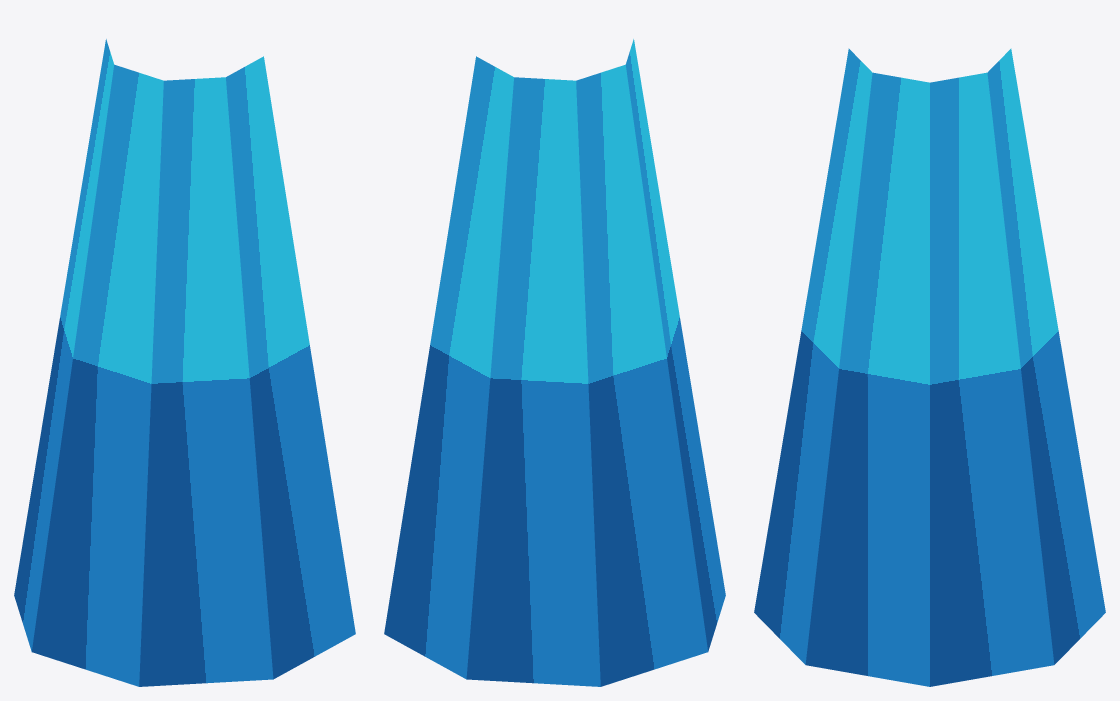
The model's file is beacon.gltf.
3 renders of one model, left to right at view 1: azimuth 30°, elevation 25°; view 2: azimuth 150°, elevation 25°; view 3: azimuth 270°, elevation 25°, orthographic.
Parts seen in each view (by area): view 1: Signal Beacon; view 2: Signal Beacon; view 3: Signal Beacon.
Part boxes in pixels (left/top/right/bottom): Signal Beacon: left=14, top=39, right=355, bottom=686; Signal Beacon: left=384, top=39, right=725, bottom=686; Signal Beacon: left=754, top=48, right=1105, bottom=686.
Size of the model in its own units: 1.3 by 2.3 by 1.3.
Materials: 1 (1 with a texture image).
